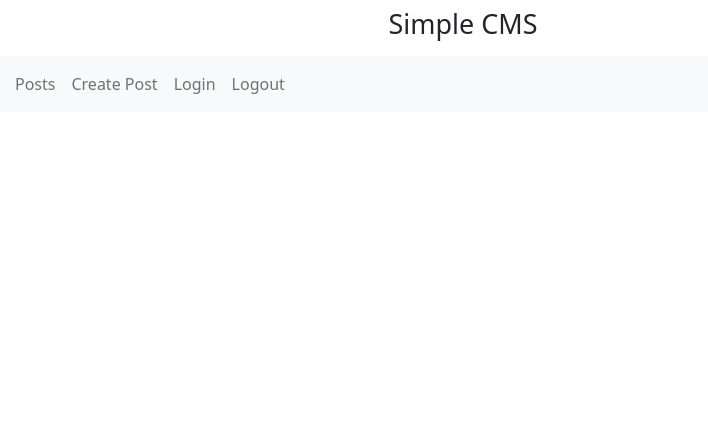
Scenario: Create Post › should be available via navigation
Click the link "Create Post": (115, 84) [72, 73, 158, 95]
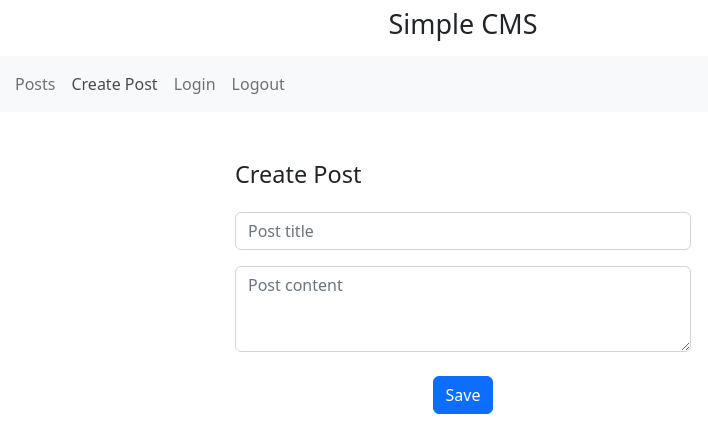
Expected: the heading "Create Post" is shown, [235, 158, 361, 190]
Expected: the submit button is enabled, [433, 377, 494, 415]
